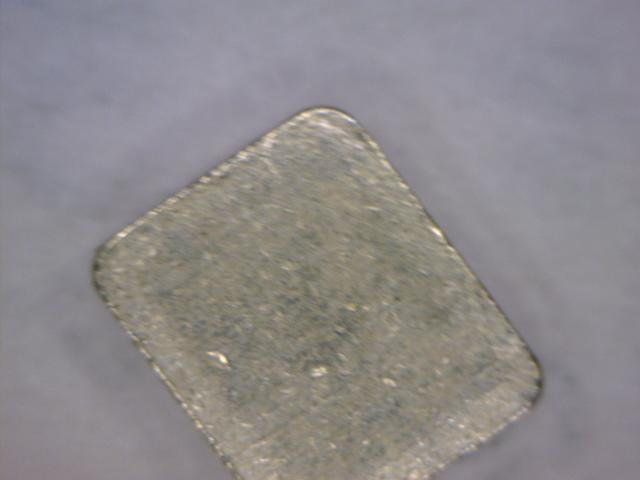ok: (82, 104, 548, 469)
